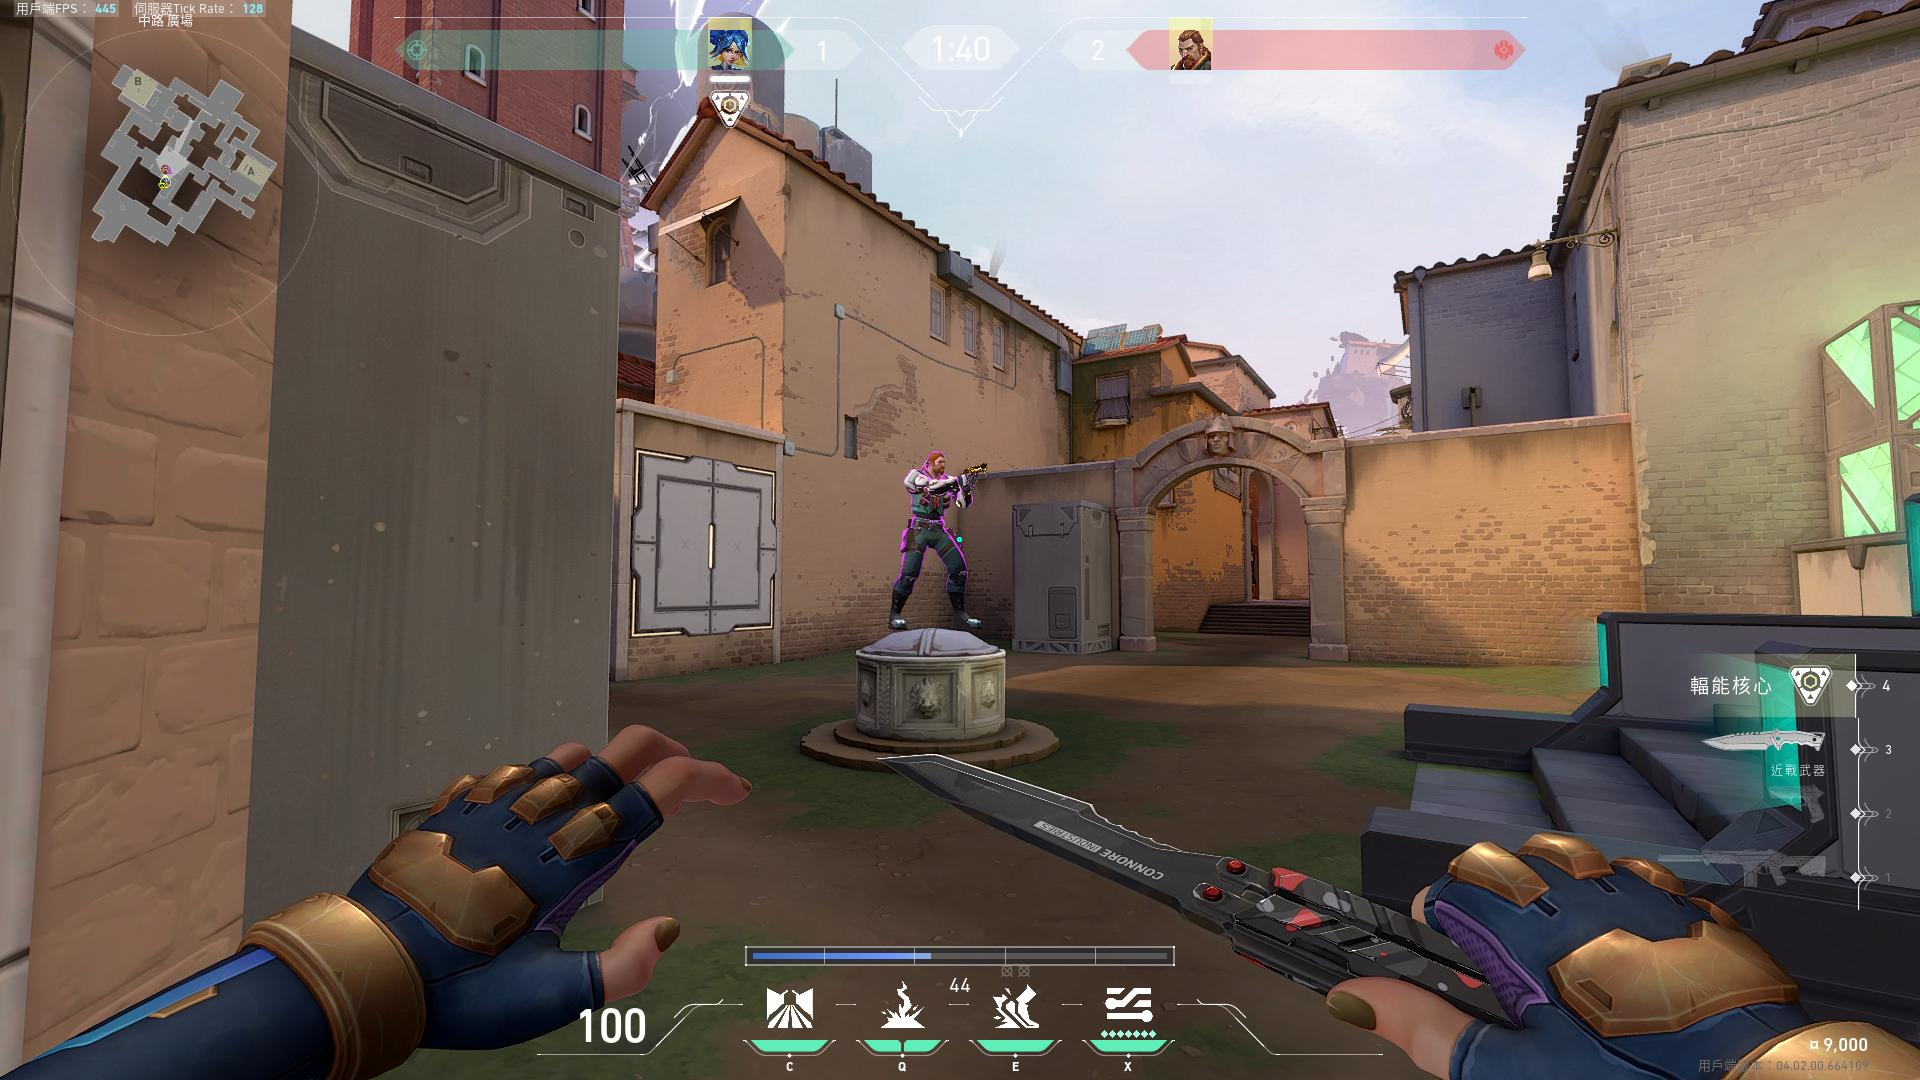enemyBody: (916, 476, 945, 516)
enemyHead: (928, 458, 943, 471)
